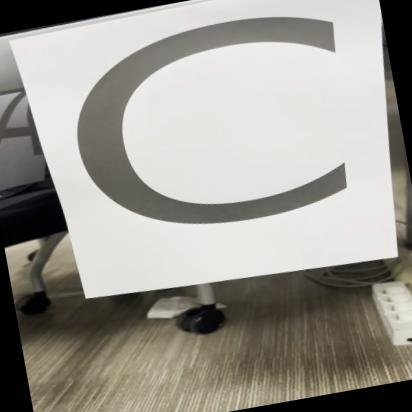seat: (2, 0, 412, 325)
